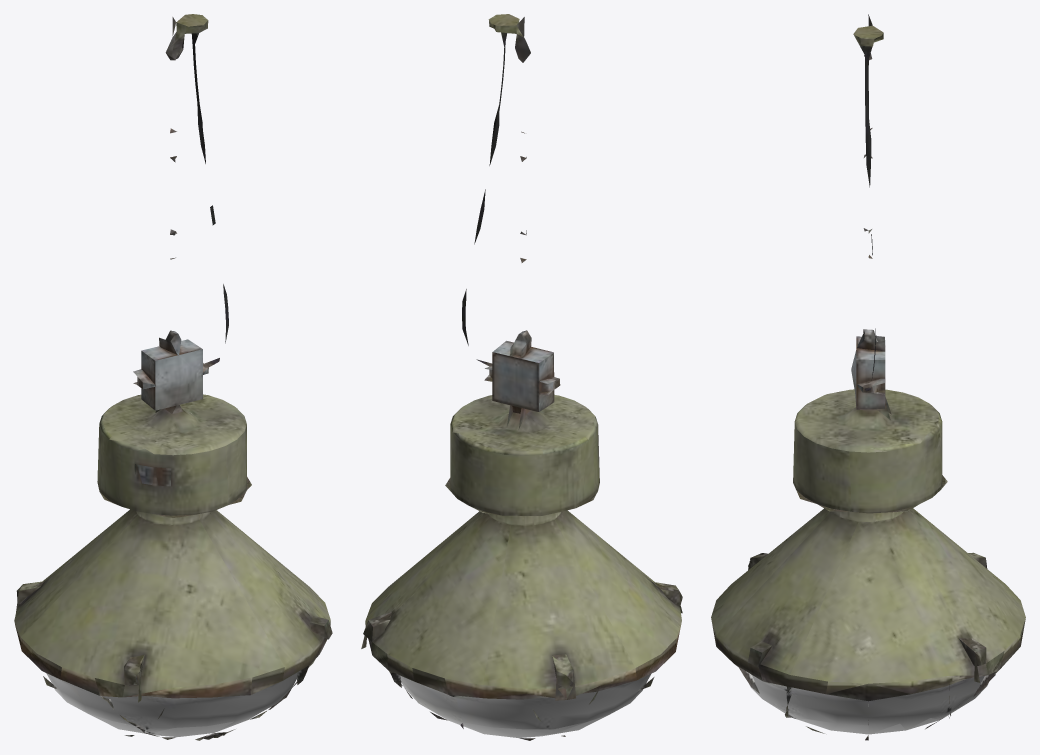
File: hang_lamp.glb
The picture shows the model from 3 angles, left to right: view 1: azimuth 30°, elevation 25°; view 2: azimuth 150°, elevation 25°; view 3: azimuth 270°, elevation 25°; orthographic projection.
Visible parts, largest first — view 1: mesh; view 2: mesh; view 3: mesh.
Boxes of the visible parts, bbox=[...] form: mesh: bbox=[14, 14, 332, 740]; mesh: bbox=[361, 14, 682, 740]; mesh: bbox=[711, 14, 1025, 740].
Size of the model in its own units: 0.5475 by 1.36 by 0.5475.
1 material, 1 textured.
